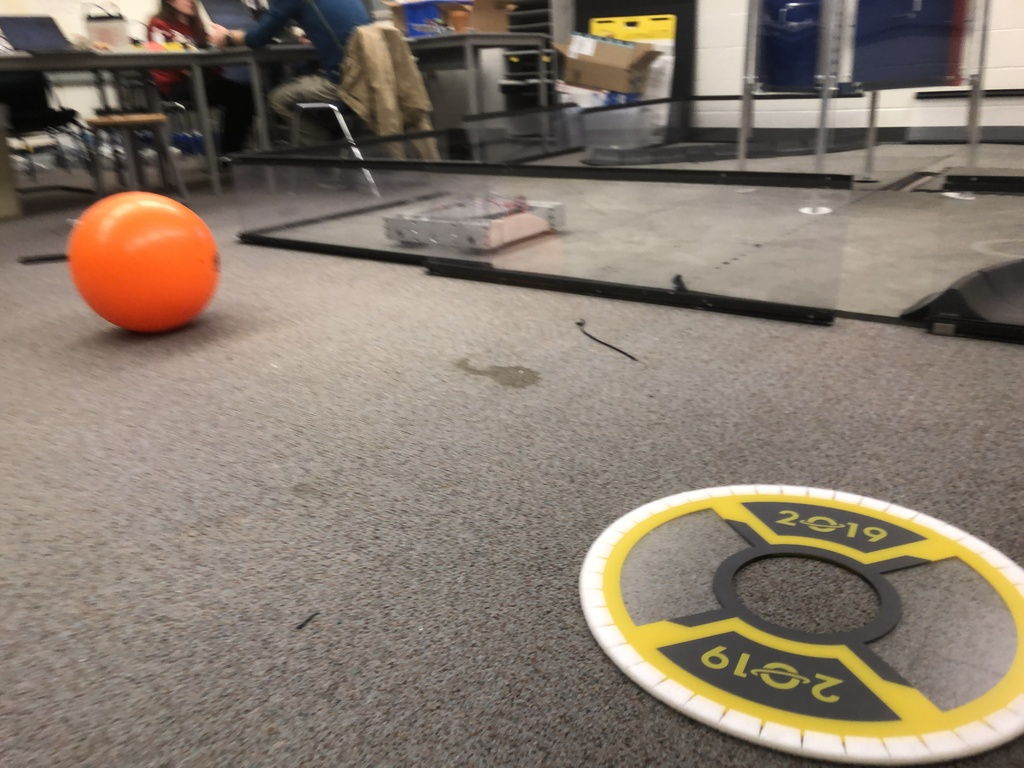hatch_panel: (567, 454, 1024, 768)
